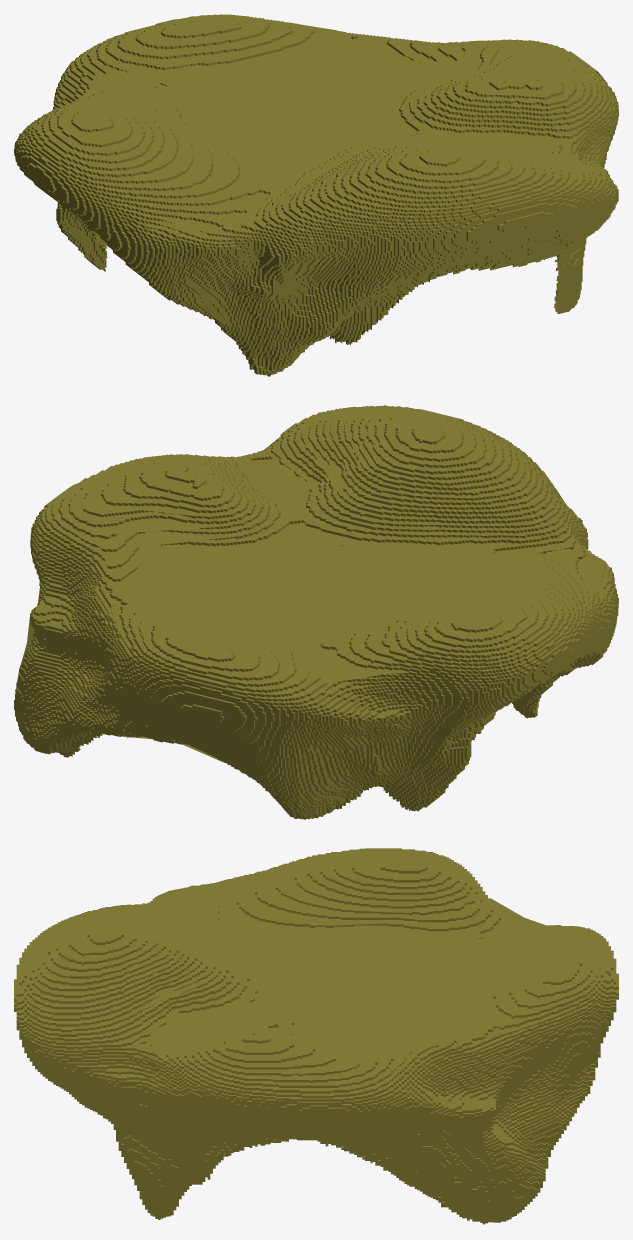
The model's file is terrain.fbx.
3 views of the same model, one above another, from view 1: azimuth 30°, elevation 25°; view 2: azimuth 150°, elevation 25°; view 3: azimuth 270°, elevation 25° (orthographic). The views are drawn at different scales.
Parts seen in each view (by area): view 1: terrain; view 2: terrain; view 3: terrain.
Part boxes in pixels (x1,y1,x2,y2): terrain: (14,14,618,376); terrain: (14,405,618,819); terrain: (14,848,618,1224).
Size of the model in its own units: 32.36 by 12.69 by 32.93.
